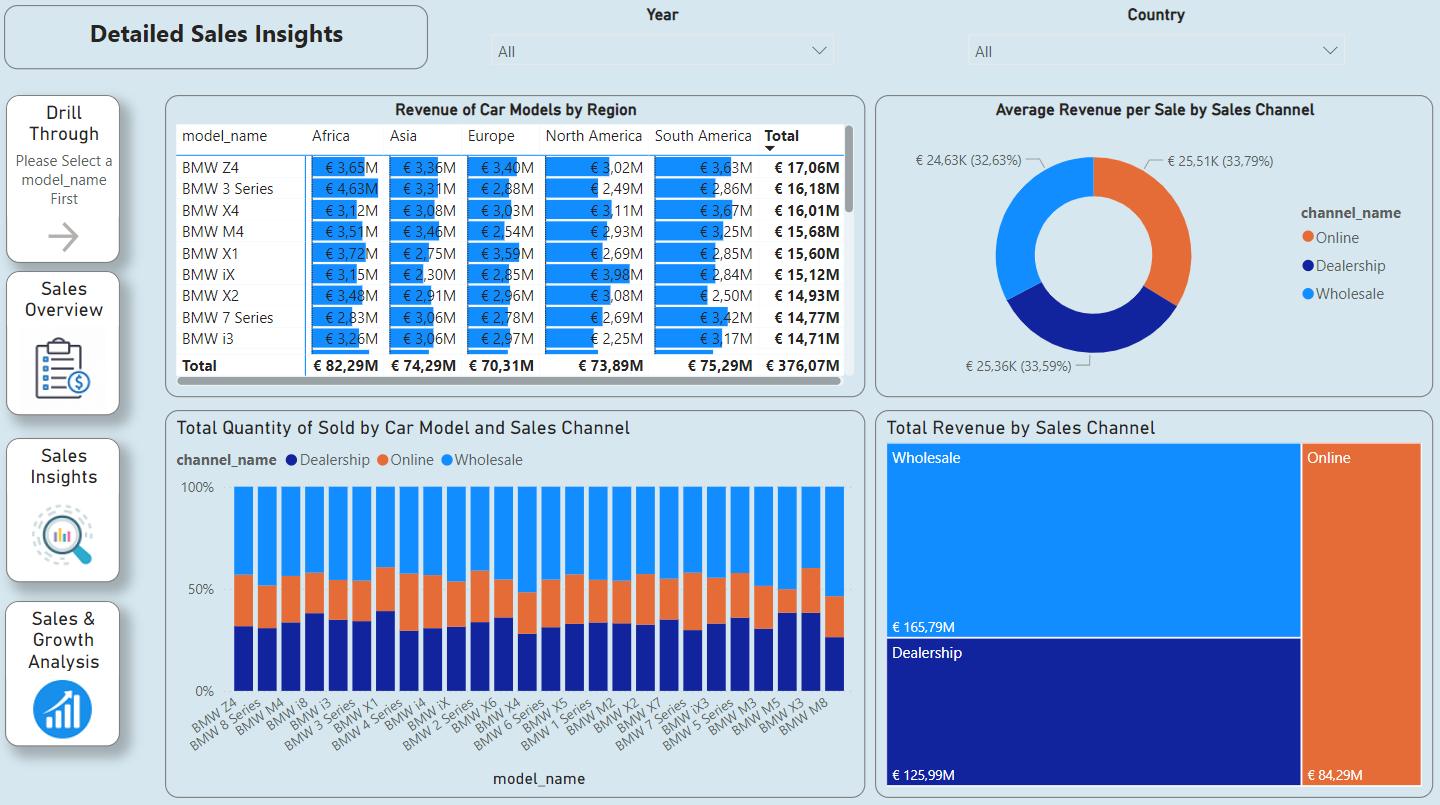

This screenshot's page, from the dashboard's own definition file:
{"tool":"powerbi","page":{"name":"Detailed Sales Insights","canvas":[1280,720],"ordinal":1},"visuals":[{"type":"textbox","box":[5.8,7.8,376.4,57.4],"z":0},{"type":"hundredPercentStackedColumnChart","title":"Total Quantity of Sold by Car Model and Sales Channel","fields":{"Y":["Sum(sales_fact.quantity_sold)"],"Category":["model_dim.model_name"],"Series":["channel_dim.channel_name"]},"box":[148.9,366.7,620.5,343.7],"z":1000},{"type":"pivotTable","title":"Revenue of Car Models by Region","fields":{"Rows":["model_dim.model_name"],"Columns":["region_dim.region_name"],"Values":["Sum(sales_fact.revenue)"]},"box":[148.9,87.9,620.5,267.8],"z":2000},{"type":"treemap","title":"Total Revenue by Sales Channel","fields":{"Values":["Sum(sales_fact.revenue)"],"Group":["channel_dim.channel_name","model_dim.model_name"]},"box":[778.4,366.7,494.6,343.7],"z":3000},{"type":"donutChart","title":"Average Revenue per Sale by Sales Channel","fields":{"Y":["sales_fact.Average Revenue per Sale"],"Category":["channel_dim.channel_name"]},"box":[778.4,87.9,494.6,267.8],"z":4000},{"type":"slicer","title":"Year","fields":{"Values":["date_dim.date.Variation.Date Hierarchy.Year"]},"box":[428.7,8,323.7,57],"z":5000},{"type":"slicer","title":"Country","fields":{"Values":["country_dim.country_name"]},"box":[851.3,8,353.7,57],"z":6000},{"type":"actionButton","title":"Drill Through","box":[8,87.9,100.9,148.9],"z":7000},{"type":"actionButton","title":"Sales Overview","box":[8,243.8,100.9,127.9],"z":8000},{"type":"actionButton","title":"Sales Insights","box":[8,391.7,100.9,127.9],"z":9000},{"type":"actionButton","title":"Sales & Growth Analysis","box":[7,536.6,101.9,128.9],"z":10000}]}

Visuals, with their boxes in screenshot pixels (x1, y1, x2, y2), scaled from the page's 1280x720 canvas onto the 1440x805 screenshot:
textbox: detection(7, 9, 430, 73)
"Total Quantity of Sold by Car Model and Sales Channel" hundredPercentStackedColumnChart: detection(168, 410, 866, 794)
"Revenue of Car Models by Region" pivotTable: detection(168, 98, 866, 398)
"Total Revenue by Sales Channel" treemap: detection(876, 410, 1432, 794)
"Average Revenue per Sale by Sales Channel" donutChart: detection(876, 98, 1432, 398)
"Year" slicer: detection(482, 9, 846, 73)
"Country" slicer: detection(958, 9, 1356, 73)
"Drill Through" actionButton: detection(9, 98, 123, 265)
"Sales Overview" actionButton: detection(9, 273, 123, 416)
"Sales Insights" actionButton: detection(9, 438, 123, 581)
"Sales & Growth Analysis" actionButton: detection(8, 600, 123, 744)
